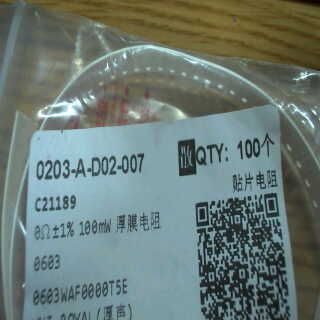0R: (31, 217, 115, 276)
